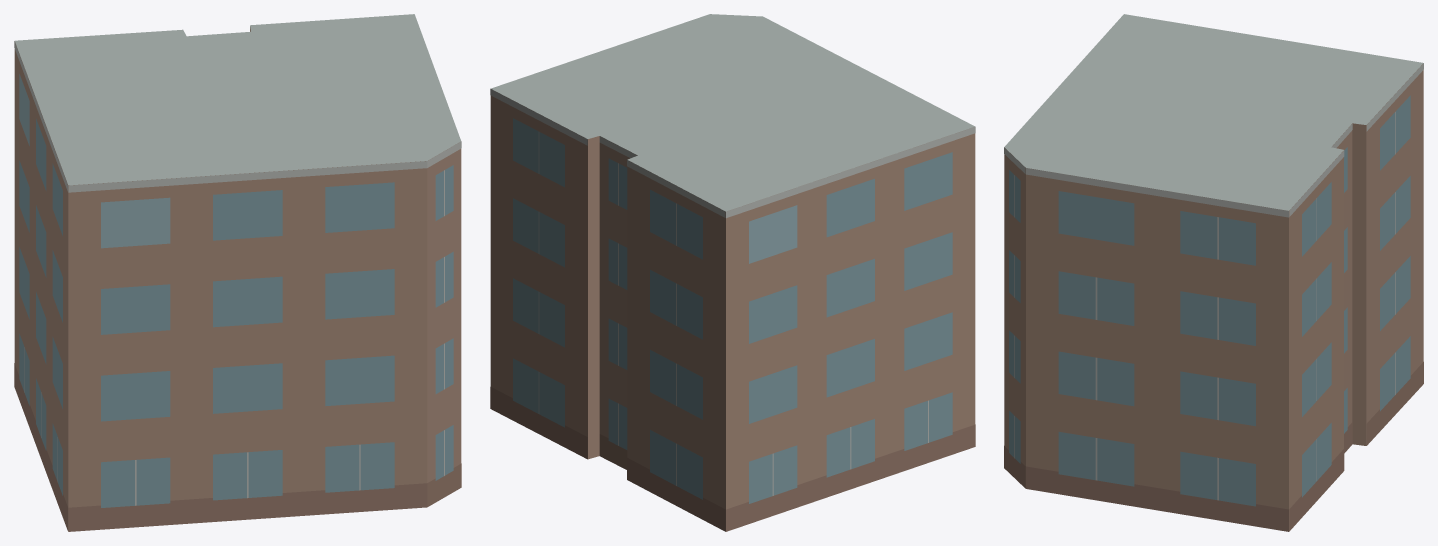
The model's file is survey-upis-32871829.glb.
3 renders of one model, left to right at view 1: azimuth 30°, elevation 25°; view 2: azimuth 150°, elevation 25°; view 3: azimuth 270°, elevation 25°, orthographic. The views are drawn at different scales.
Visible parts, largest first — view 1: survey-upis-32871829.tmp; view 2: survey-upis-32871829.tmp; view 3: survey-upis-32871829.tmp.
Part boxes in pixels (left/top/right/bottom): survey-upis-32871829.tmp: left=14, top=14, right=461, bottom=531; survey-upis-32871829.tmp: left=490, top=14, right=975, bottom=531; survey-upis-32871829.tmp: left=1004, top=14, right=1423, bottom=531.
Bounding box in the file's own units: 15.4 × 11.7 × 13.87.
